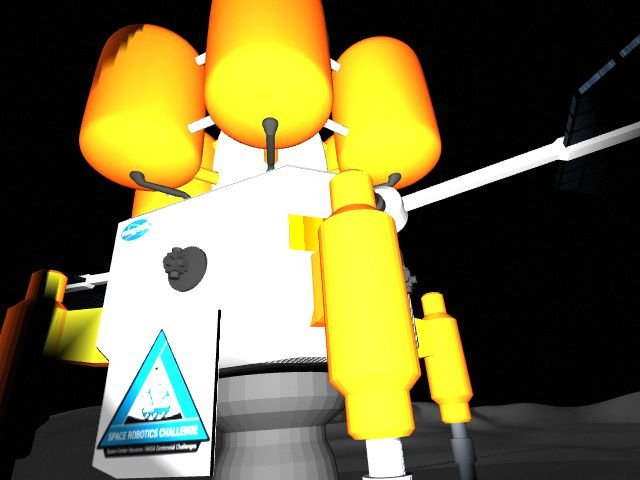basemarker: (92, 328, 211, 459)
